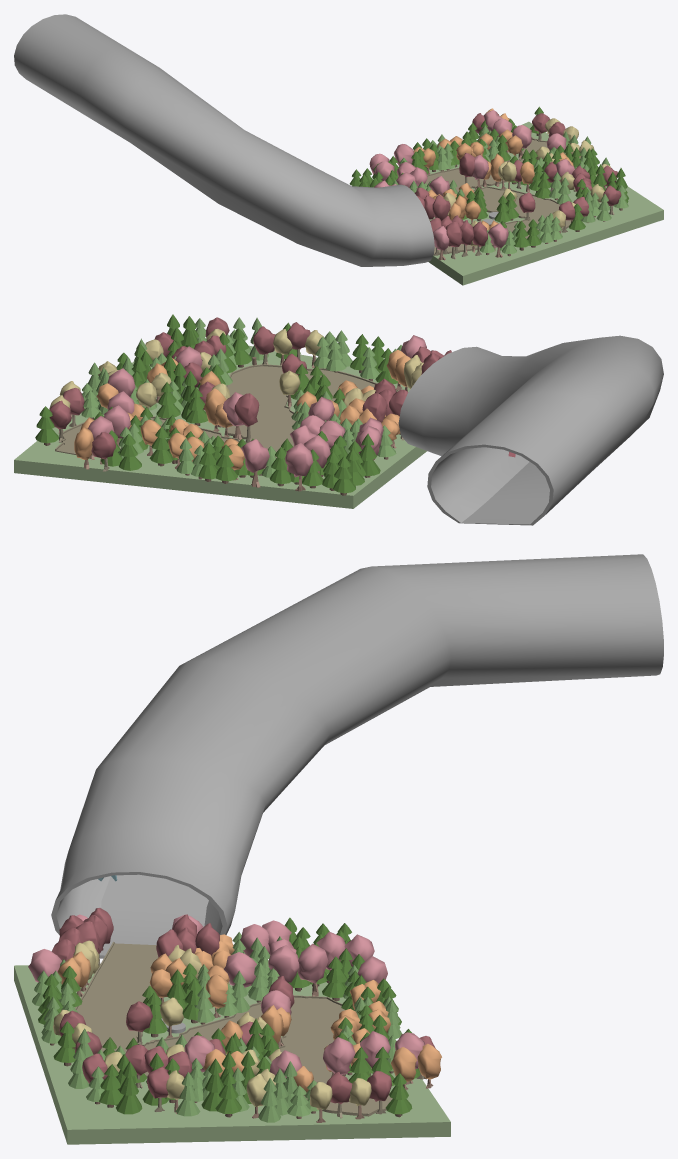
Rendered from ForestCave_edit.fbx.
The picture shows the model from 3 angles, top to bottom: view 1: azimuth 30°, elevation 25°; view 2: azimuth 150°, elevation 25°; view 3: azimuth 270°, elevation 25°; orthographic projection. The views are drawn at different scales.
Visible parts, largest first — view 1: pCylinder226, ForestTrack:pCube3, ForestTrack:pCube2; view 2: pCylinder226, ForestTrack:pCube3, ForestTrack:pCube2, pCube1 (×5), ForestTrack:pCube1 (×3), ForestTrack:pCylinder1 (×3), ForestTrack:pCube4, pCube35, pCylinder126, pCylinder210, pCylinder127, ForestTrack:pCylinder57 (+35 smaller); view 3: pCylinder226, ForestTrack:pCube3, ForestTrack:pCube2, pCube4, ForestTrack:pCube9.
Part boxes in pixels (box(x1,y1,x2,y2)): pCylinder226: box(14, 14, 434, 266); ForestTrack:pCube3: box(427, 121, 663, 285); ForestTrack:pCube2: box(425, 137, 570, 254); pCylinder226: box(398, 335, 663, 525); ForestTrack:pCube3: box(14, 338, 426, 508); ForestTrack:pCube2: box(55, 364, 400, 475); pCube1 (×5): box(49, 329, 345, 448); ForestTrack:pCube1 (×3): box(222, 370, 300, 426); ForestTrack:pCylinder1 (×3): box(81, 382, 208, 423); ForestTrack:pCube4: box(285, 443, 313, 477); pCube35: box(241, 439, 269, 472); pCylinder126: box(35, 406, 58, 443); pCylinder210: box(333, 456, 355, 493); pCylinder127: box(119, 434, 141, 470); ForestTrack:pCylinder57: box(149, 427, 172, 463); pCylinder226: box(51, 554, 663, 958); ForestTrack:pCube3: box(14, 965, 450, 1144); ForestTrack:pCube2: box(75, 941, 392, 1116); pCube4: box(297, 943, 328, 983); ForestTrack:pCube9: box(323, 1037, 355, 1074).
Size of the model in its own units: 213 by 73.81 by 167.
